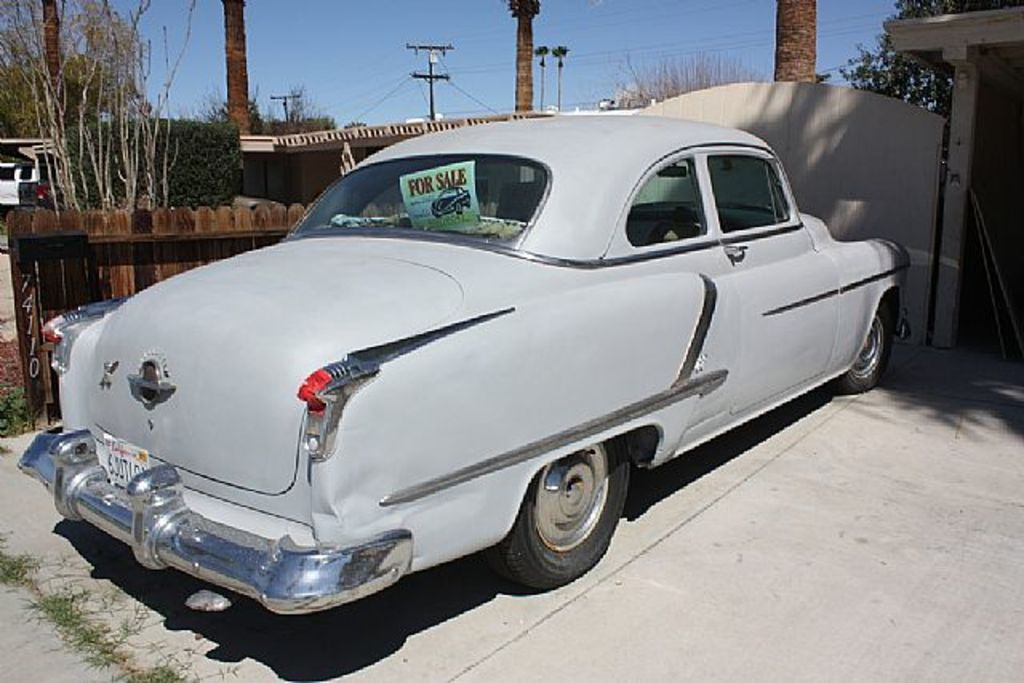Tree: (0, 0, 194, 211), (837, 0, 1024, 156), (0, 47, 150, 140)
